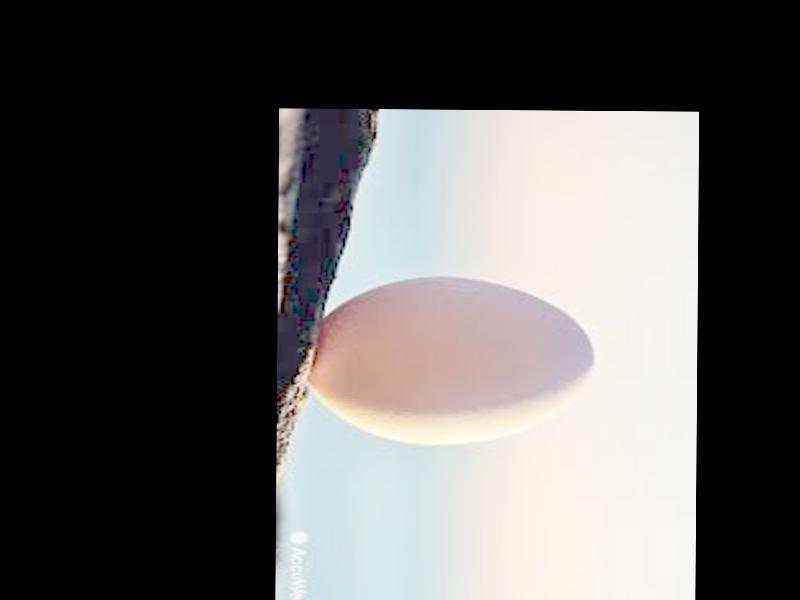Eggs: (311, 275, 597, 447)
